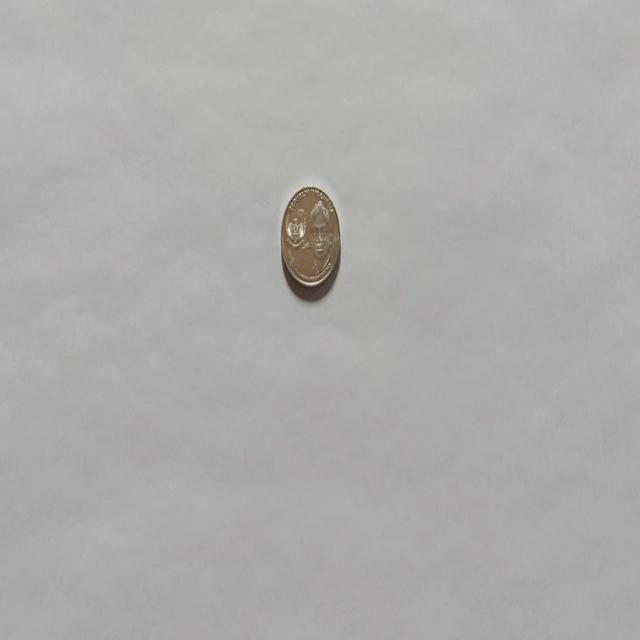dua ratus rupiah: (280, 184, 340, 289)
